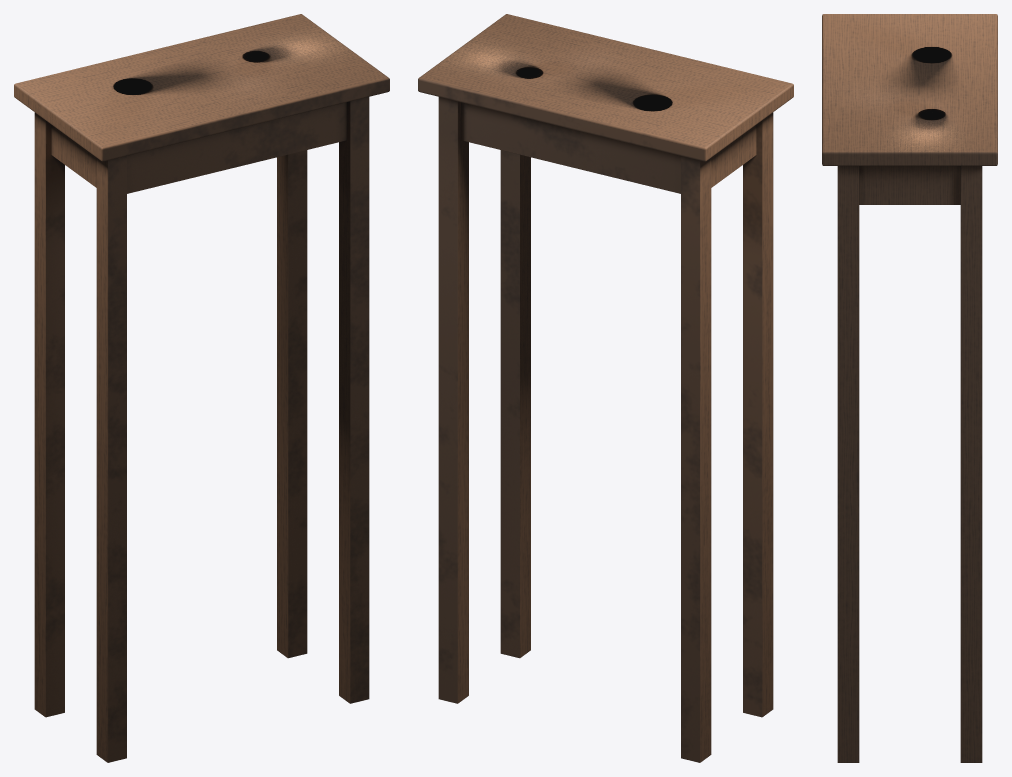
The model's file is 401_elec.glb.
3 renders of one model, left to right at view 1: azimuth 30°, elevation 25°; view 2: azimuth 150°, elevation 25°; view 3: azimuth 270°, elevation 25°, orthographic.
Visible parts, largest first — view 1: Table; view 2: Table; view 3: Table.
Part boxes in pixels (x1,y1,x2,y2): Table: (14,14,389,762); Table: (418,14,793,762); Table: (822,14,997,762).
Size of what is drawn, in the model's own units: 1.5 by 3.1 by 0.8.
Materials: 1 (1 with a texture image).
